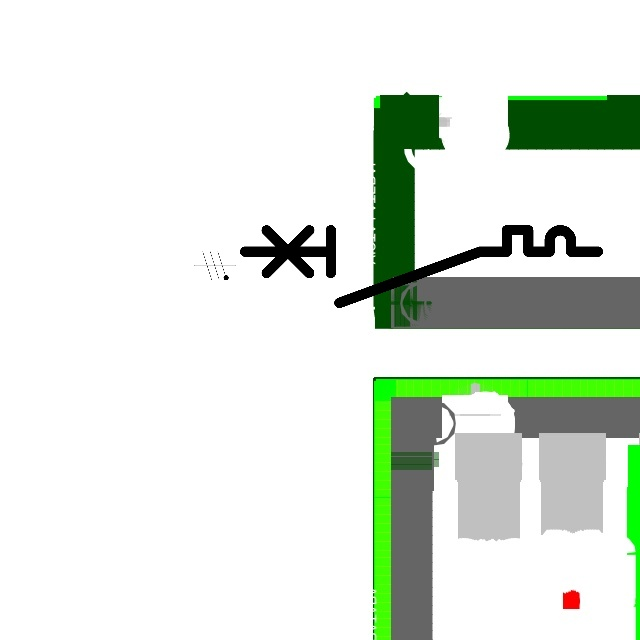interruptor_termomagnetico: (236, 221, 607, 312)
